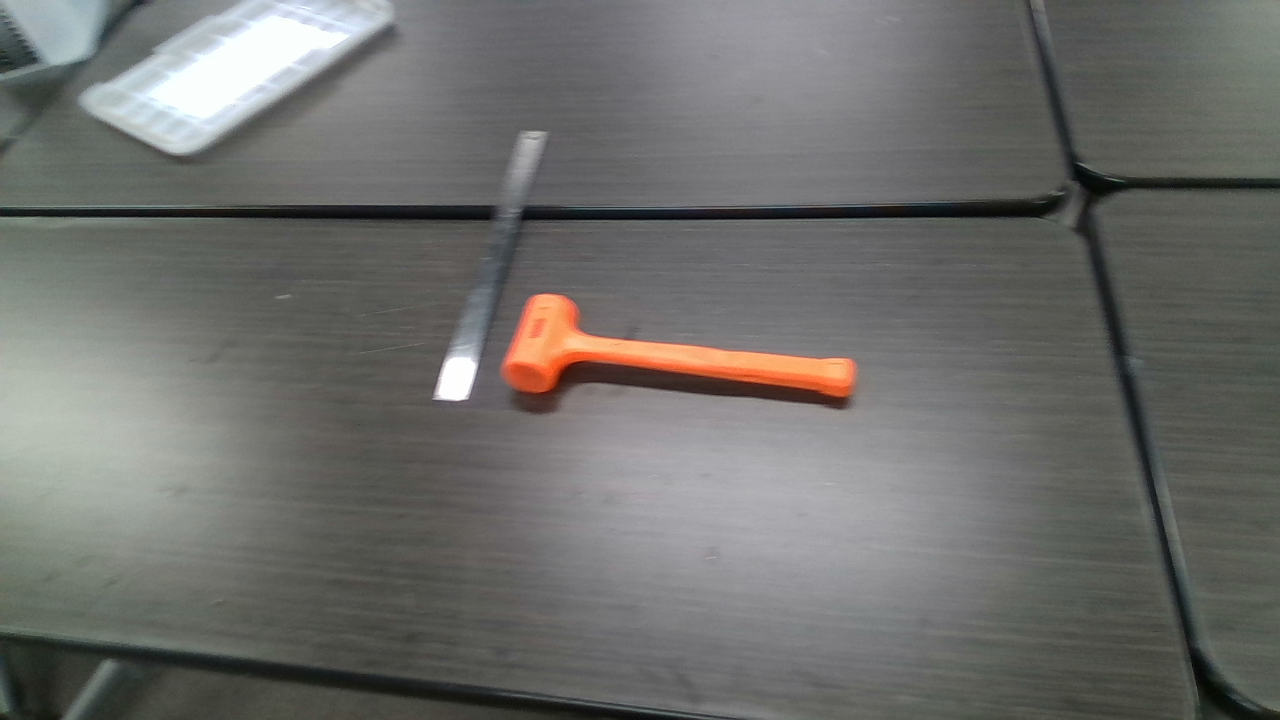Orange Hammer: (505, 294, 857, 402)
